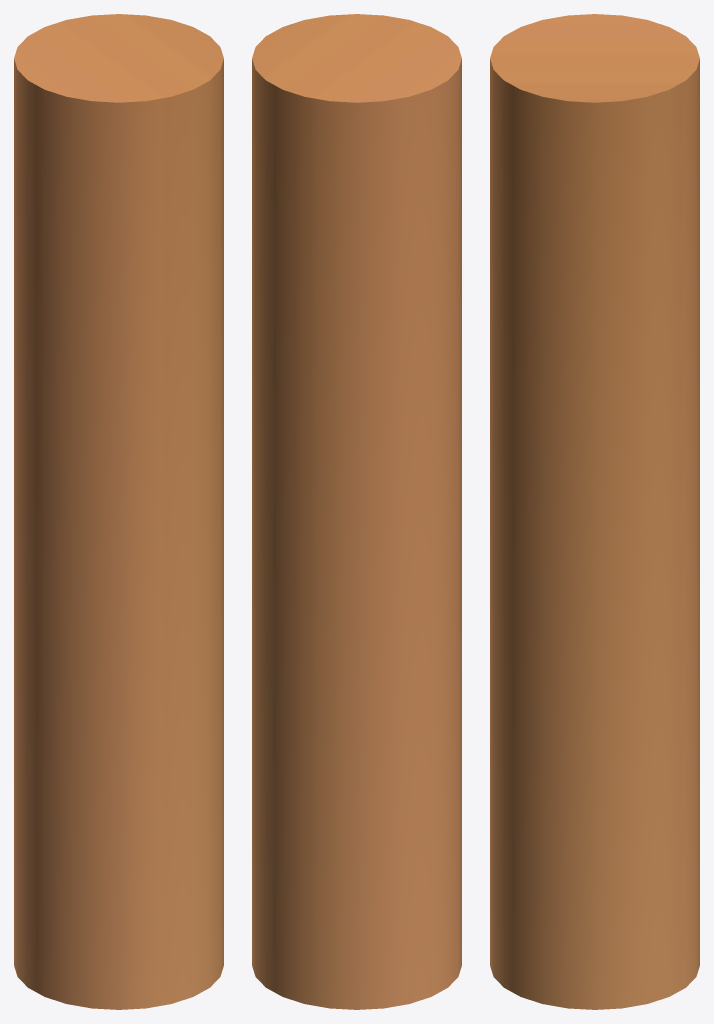
Rendered from original-16.obj.
The picture shows the model from 3 angles, left to right: view 1: azimuth 30°, elevation 25°; view 2: azimuth 150°, elevation 25°; view 3: azimuth 270°, elevation 25°; orthographic projection.
Parts seen in each view (by area): view 1: instance_0/Component_51/ID106#ID106; view 2: instance_0/Component_51/ID106#ID106; view 3: instance_0/Component_51/ID106#ID106.
Boxes of the visible parts, x1,y1,x2,y2 form: instance_0/Component_51/ID106#ID106: (14,14,223,1009); instance_0/Component_51/ID106#ID106: (252,14,461,1009); instance_0/Component_51/ID106#ID106: (490,14,699,1009).
Size of the model in its own units: 0.0281 by 0.134 by 0.0281.
